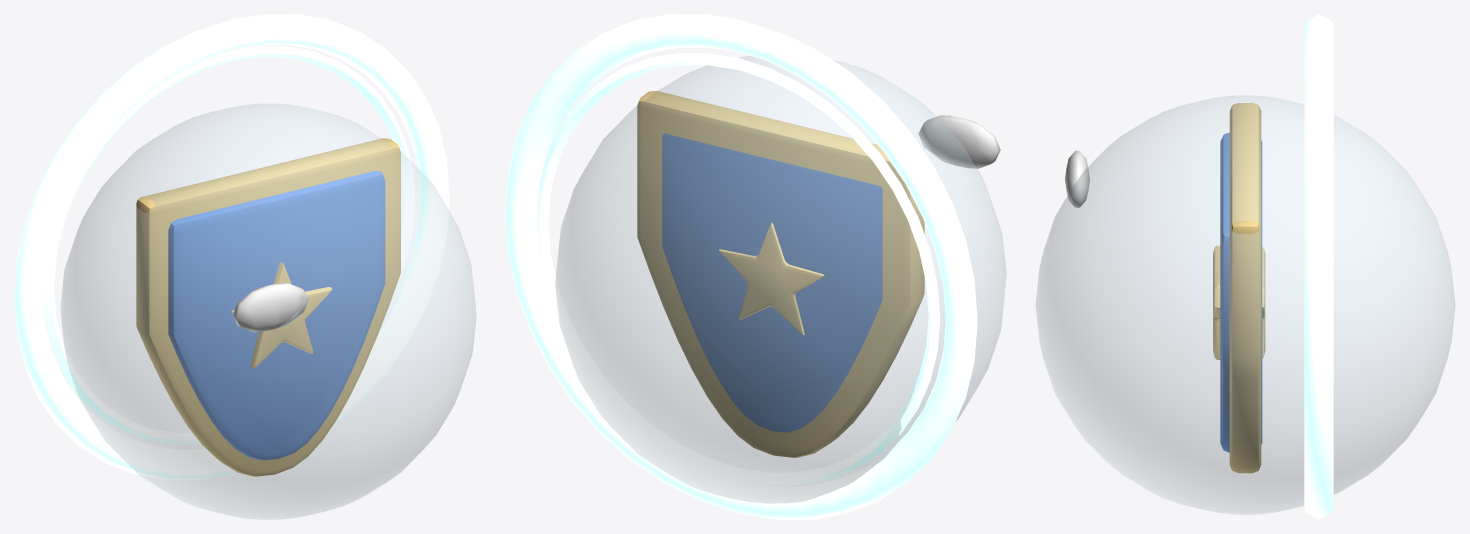
The model's file is item_shield.glb.
The picture shows the model from 3 angles, left to right: view 1: azimuth 30°, elevation 25°; view 2: azimuth 150°, elevation 25°; view 3: azimuth 270°, elevation 25°; orthographic projection. The views are drawn at different scales.
Parts seen in each view (by area): view 1: item_shield; view 2: item_shield; view 3: item_shield.
Boxes of the visible parts, x1,y1,x2,y2 form: item_shield: (14, 14, 476, 519); item_shield: (505, 14, 1006, 519); item_shield: (1035, 14, 1455, 519).
Bounding box in the file's own units: 0.482 × 0.482 × 0.4.
